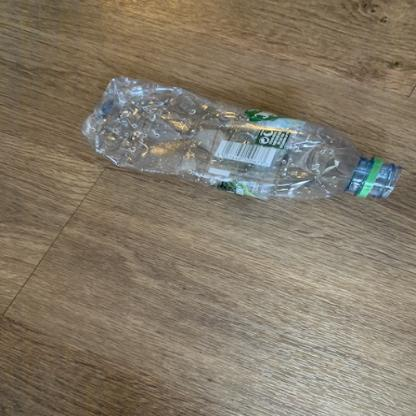trash: (79, 76, 403, 208)
